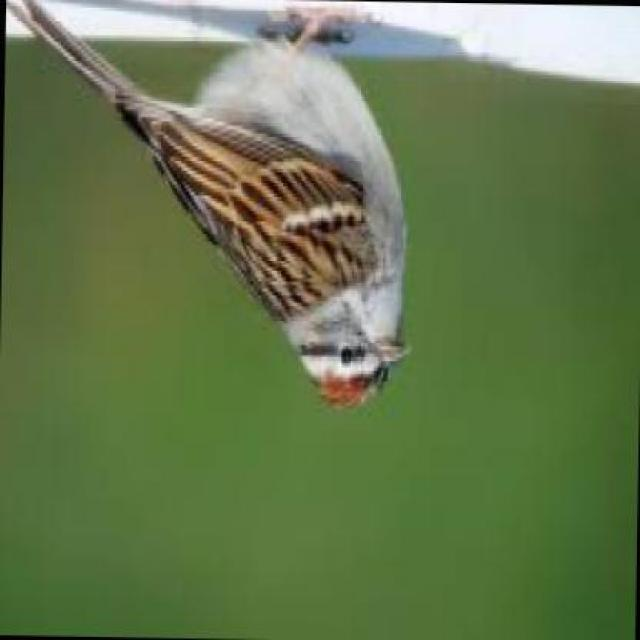Bird: (97, 0, 434, 407)
